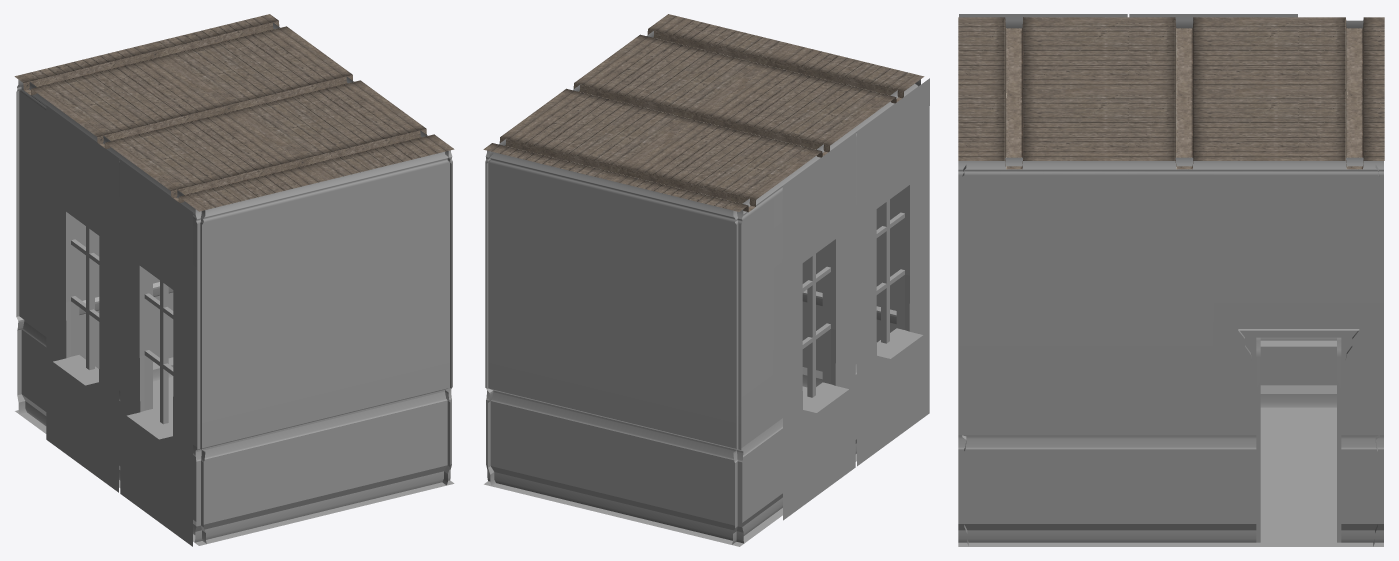
The model's file is room_bath_first.fbx.
3 views of the same model, side by side, from view 1: azimuth 30°, elevation 25°; view 2: azimuth 150°, elevation 25°; view 3: azimuth 270°, elevation 25° (orthographic). The views are drawn at different scales.
Parts seen in each view (by area): view 1: ceiling1; view 2: ceiling1; view 3: ceiling1.
Boxes of the visible parts, x1,y1,x2,y2 form: ceiling1: [14, 14, 454, 546]; ceiling1: [483, 14, 929, 546]; ceiling1: [958, 14, 1384, 546].
Size of the model in its own units: 430 by 500 by 501.
Materials: 4 (1 with a texture image).
